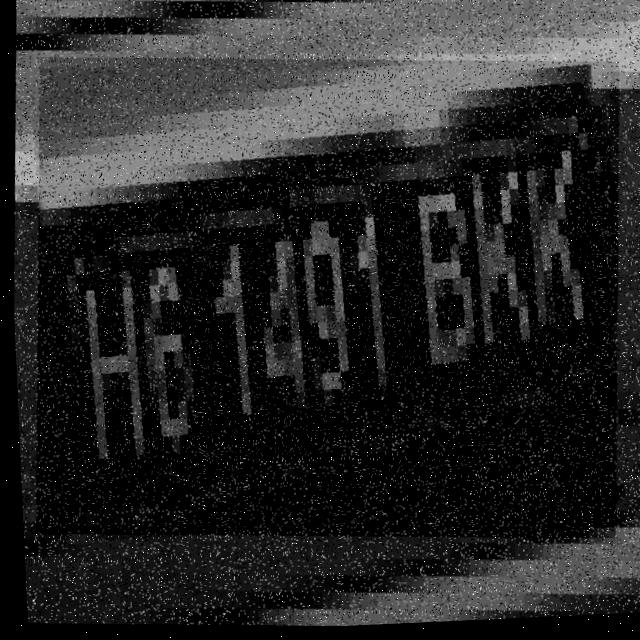LicensePlate: (15, 38, 635, 564)
